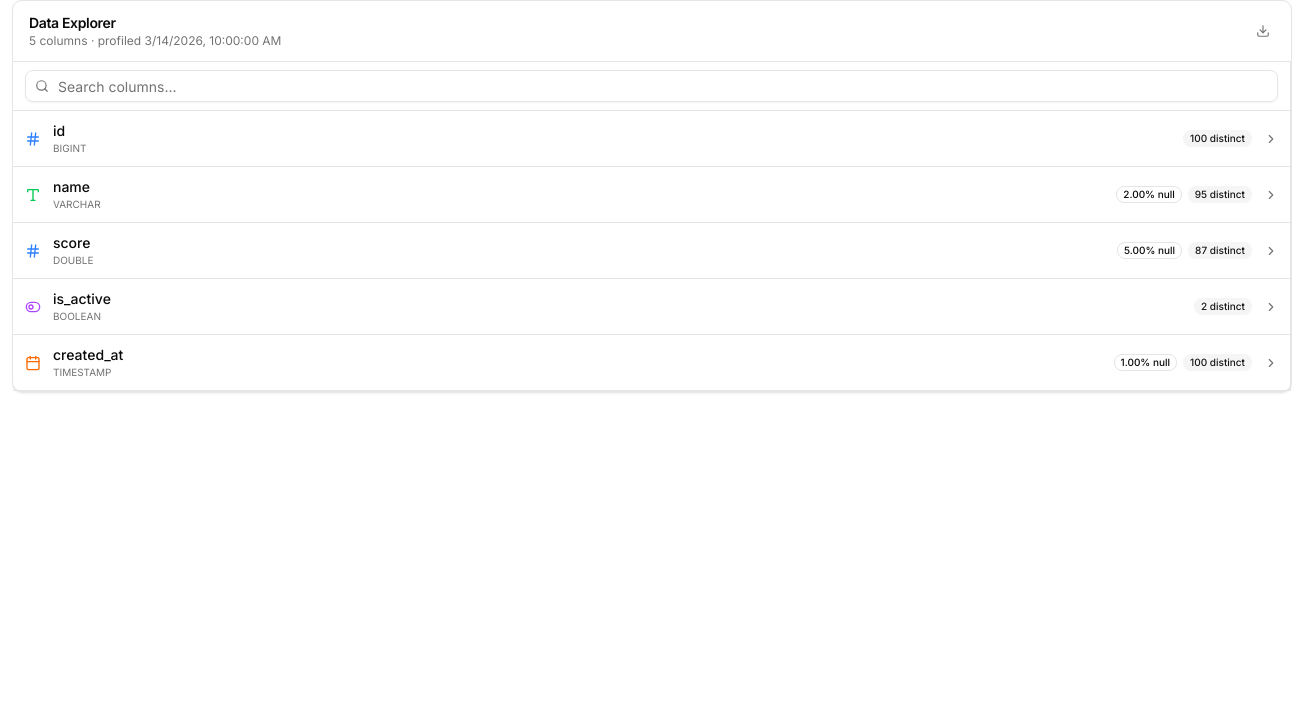
Test: DataExplorer › shows column detail panel when a column is clicked
What coordinates should you click on to do the following:
click the button with test id "column-row" that starts with "score"
I would click on:
 (72, 242)
Its box is left=13, top=223, right=1290, bottom=279.
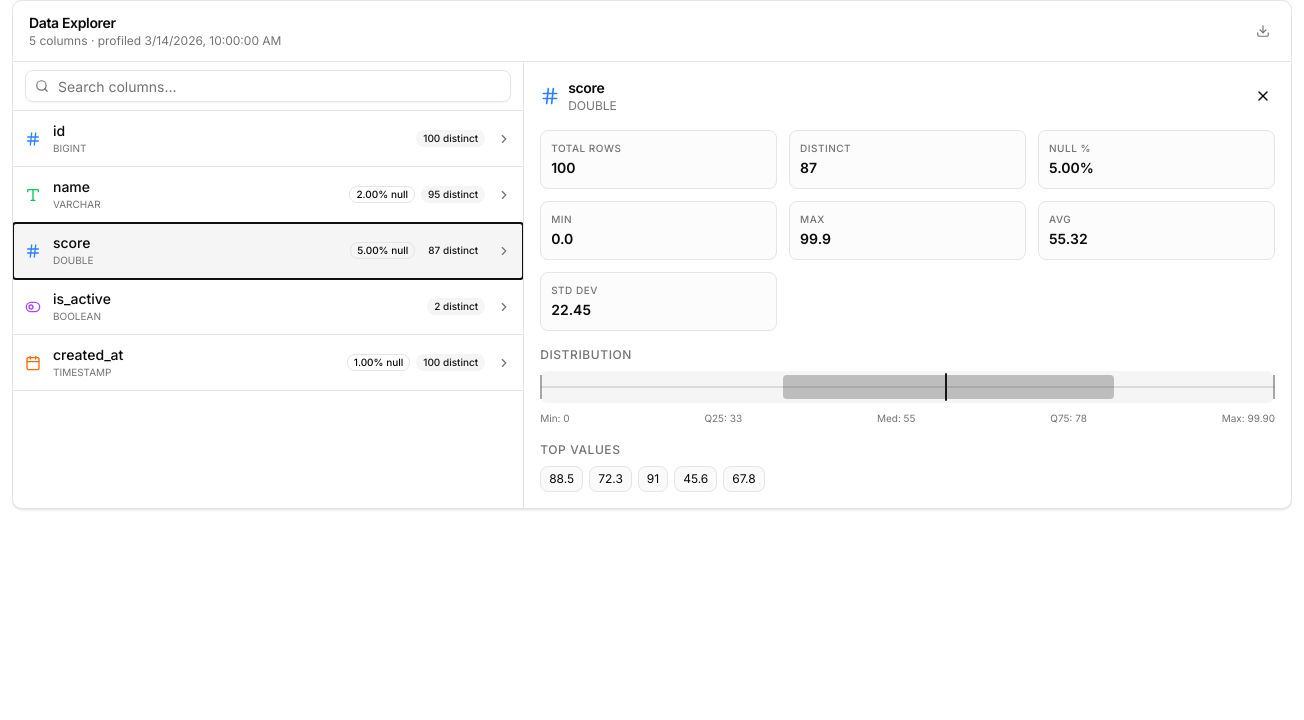
Check: the element with test id "column-detail" is shown, box left=524, top=62, right=1291, bottom=508
Check: the element with test id "column-stats" is shown, box left=540, top=130, right=1275, bottom=331
Check: the element with test id "column-stats" shows "Min", box left=551, top=213, right=572, bottom=225
